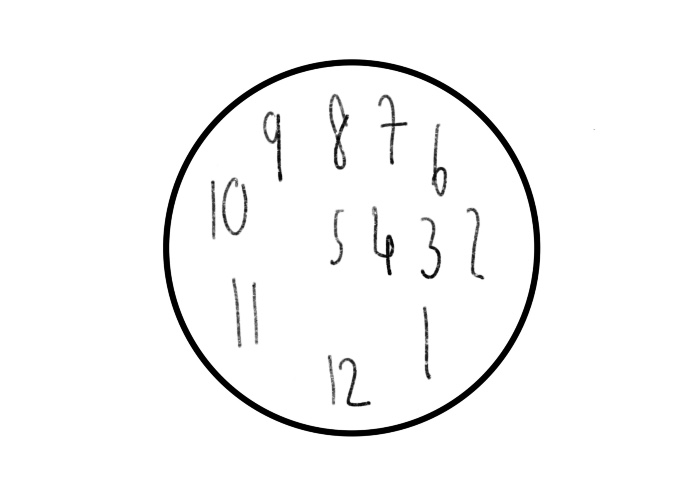eight: (323, 86, 354, 175)
eleven: (227, 270, 264, 353)
five: (327, 202, 346, 272)
four: (366, 208, 399, 277)
nine: (261, 106, 288, 182)
one: (417, 303, 434, 383)
seven: (376, 91, 409, 165)
six: (427, 119, 450, 200)
ten: (204, 177, 252, 244)
three: (416, 213, 442, 281)
twelve: (323, 349, 373, 410)
two: (459, 201, 488, 285)
